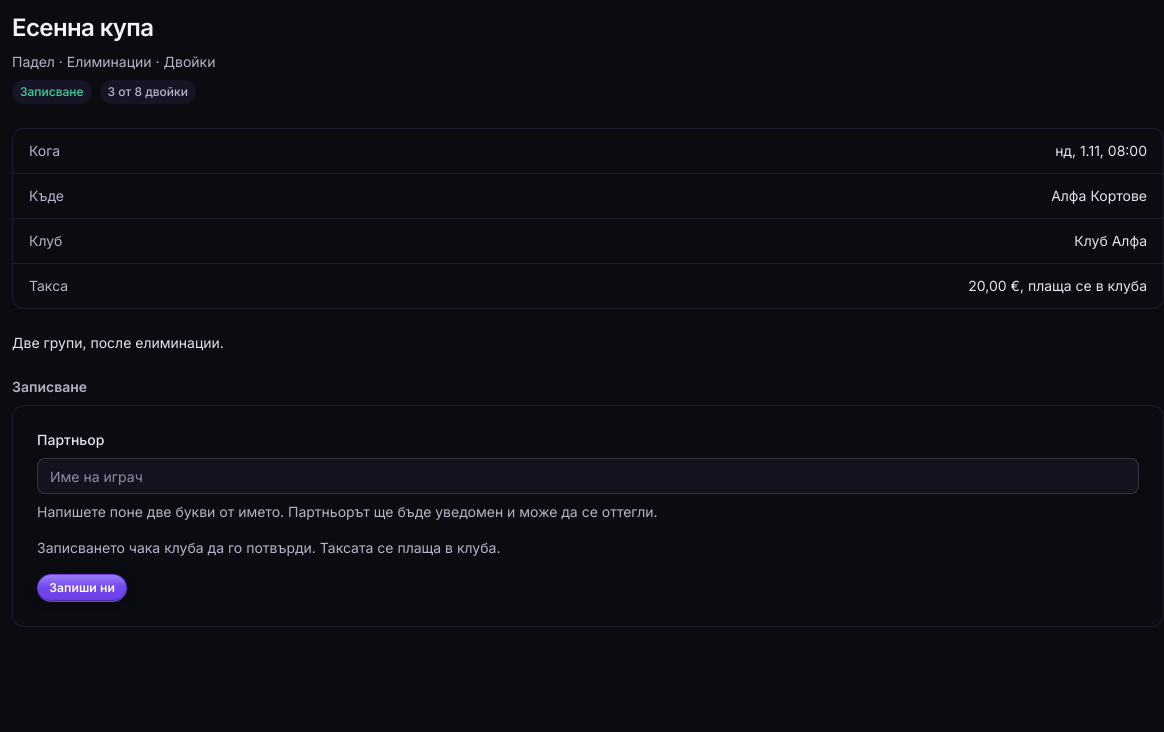
a tournament, for a player › doubles: no partner, no entry, and nothing is sent
Expected: the element with test id "partner-picker" is shown, [37, 458, 1139, 522]
Click the button with test id "tournament-enter": (82,588) [37, 574, 127, 602]
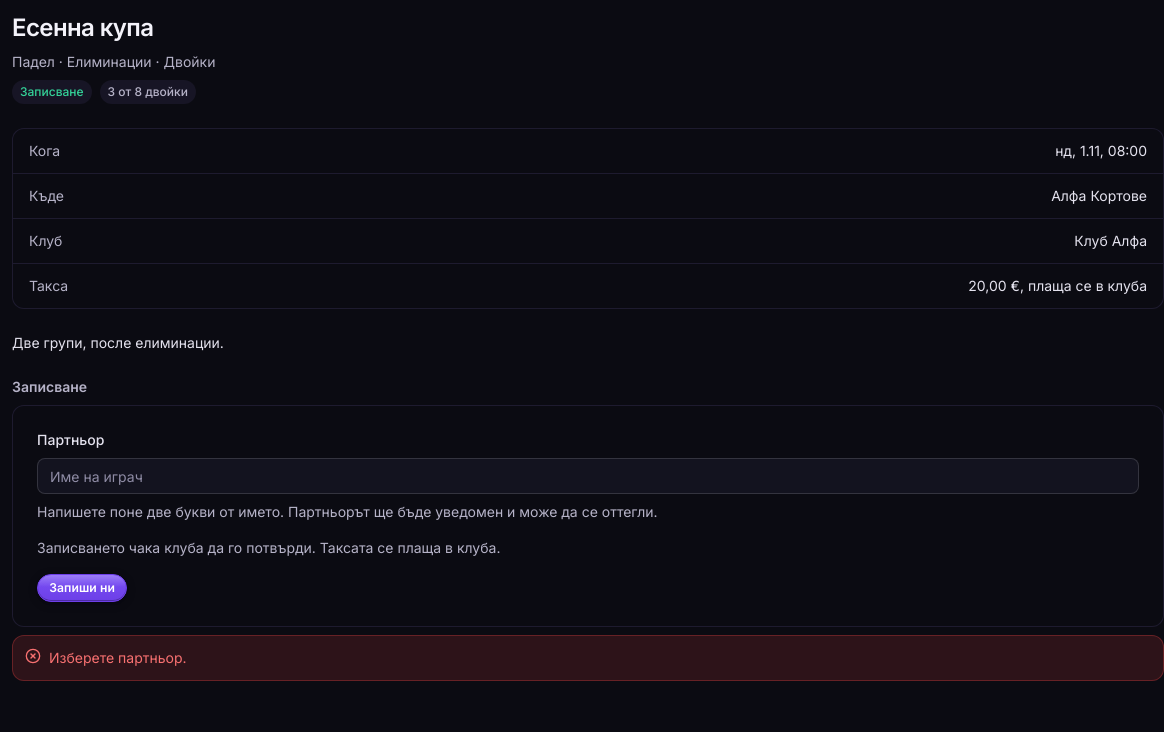
Expected: the message with test id "tournament-error" reads "Изберете партньор.", [49, 649, 186, 666]
